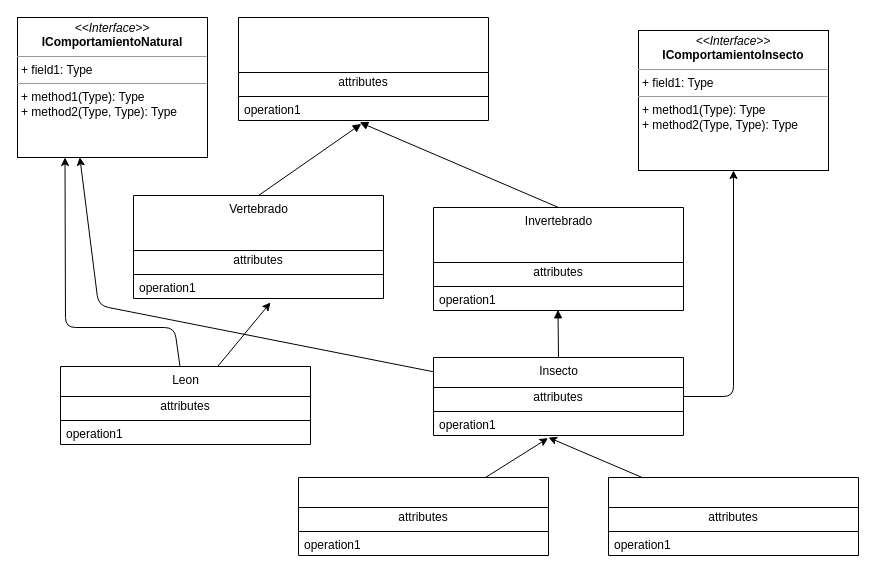
Image size: 876x573. Some labels were removed from this diagram. The box of each missing label's shape, as (x1, y1, x2, y2) in pixels:
<<ReinoAnimal>> {abstract}: (238, 16, 488, 120)
Araña: (298, 476, 548, 556)
Mosca: (608, 476, 858, 556)
